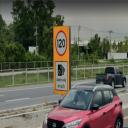speed_limit_120: (54, 29, 69, 56)
